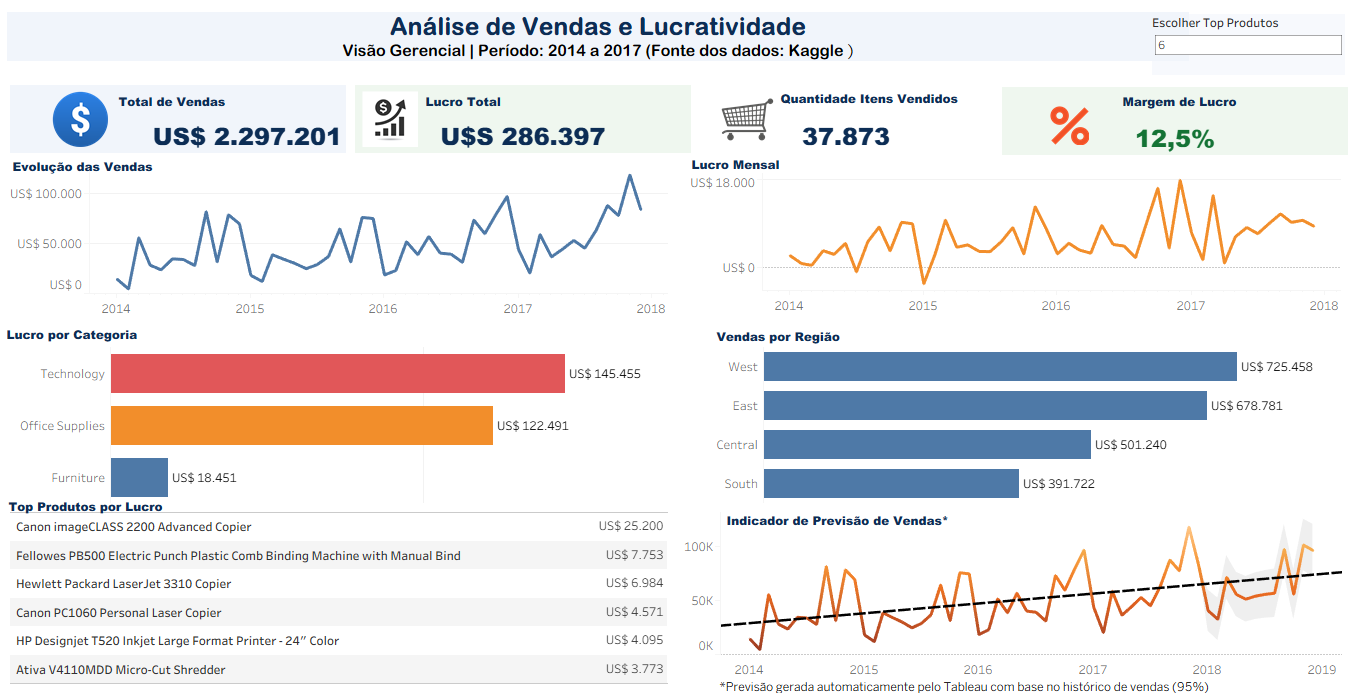

What the dashboard file says about the page in this screenshot:
{"tool":"tableau","page":{"name":"Dashboard","canvas":[1000,1000],"units":"permille","ordinal":0},"visuals":[{"type":"title","box":[7.1,14.5,844.4,103.3]},{"type":"parameter","param":"[Parameters].[Parâmetro 1]","box":[847,19.9,141.5,87]},{"type":"worksheet","title":"Total de Vendas","mark":"Automatic","box":[8.4,115.9,251.6,108.7]},{"type":"worksheet","title":"Lucro Total","mark":"Automatic","box":[260.9,115.9,251.6,108.7]},{"type":"worksheet","title":"Quantidade Vendida","mark":"Automatic","box":[513.5,115.9,219,108.7]},{"type":"text","box":[88.7,117.8,104.2,54.4]},{"type":"text","box":[313.1,117.8,104.4,54.4]},{"type":"text","box":[573.2,117.8,159.7,45.3]},{"type":"text","box":[823.9,117.8,145.4,54.4]},{"type":"worksheet","title":"Margem de Lucro","mark":"Automatic","box":[734.4,119.6,259.1,108.7]},{"type":"image","box":[35.3,130.4,55.1,79.7]},{"type":"image","box":[261.9,130.4,55,79.7]},{"type":"image","box":[523.8,130.4,55,79.7]},{"type":"image","box":[772.6,148.6,28.4,63.4]},{"type":"text","box":[507.9,208.3,145.4,54.4]},{"type":"text","box":[11.2,210.1,145.4,54.4]},{"type":"worksheet","title":"Evolução das vendas","mark":"Line","rows":["sales"],"cols":["order_date"],"box":[8.4,233.7,487.4,235.5]},{"type":"worksheet","title":"Lucro Mensal","mark":"Line","rows":["profit"],"cols":["order_date"],"box":[501.4,233.7,491.2,235.5]},{"type":"text","box":[6.5,451.1,145.4,54.4]},{"type":"text","box":[526.3,454.7,144.7,54.4]},{"type":"worksheet","title":"Lucro por Categoria","mark":"Bar","rows":["category"],"cols":["profit"],"box":[8.4,490.9,487.4,235.5]},{"type":"worksheet","title":"Vendas por Região","mark":"Automatic","rows":["region"],"cols":["sales"],"box":[500.5,490.9,487.4,235.5]},{"type":"text","box":[7.8,697.5,144.7,54.4]},{"type":"text","box":[534,717.4,214.5,54.4]},{"type":"worksheet","title":"TOP Produtos","mark":"Automatic","rows":["product_name"],"box":[8,728.3,488.1,257.2]},{"type":"worksheet","title":"Indicador de Previsão","mark":"Automatic","rows":["sales"],"cols":["order_date"],"box":[501.4,728.3,487.4,257.2]}]}

Visuals, with their boxes on the dashboard's canvas, which has no fixed pixel size, in thousandths of its width and height (x1, y1, x2, y2). These are canvas units, not pixel positions in the 1351x693 screenshot, which may show the page scaled, cropped or inside an application window:
title: bbox=(7, 14, 852, 118)
parameter: bbox=(847, 20, 988, 107)
"Total de Vendas" worksheet: bbox=(8, 116, 260, 225)
"Lucro Total" worksheet: bbox=(261, 116, 512, 225)
"Quantidade Vendida" worksheet: bbox=(514, 116, 732, 225)
text: bbox=(89, 118, 193, 172)
text: bbox=(313, 118, 418, 172)
text: bbox=(573, 118, 733, 163)
text: bbox=(824, 118, 969, 172)
"Margem de Lucro" worksheet: bbox=(734, 120, 994, 228)
image: bbox=(35, 130, 90, 210)
image: bbox=(262, 130, 317, 210)
image: bbox=(524, 130, 579, 210)
image: bbox=(773, 149, 801, 212)
text: bbox=(508, 208, 653, 263)
text: bbox=(11, 210, 157, 264)
"Evolução das vendas" worksheet (Line marks): bbox=(8, 234, 496, 469)
"Lucro Mensal" worksheet (Line marks): bbox=(501, 234, 993, 469)
text: bbox=(6, 451, 152, 506)
text: bbox=(526, 455, 671, 509)
"Lucro por Categoria" worksheet (Bar marks): bbox=(8, 491, 496, 726)
"Vendas por Região" worksheet: bbox=(500, 491, 988, 726)
text: bbox=(8, 698, 152, 752)
text: bbox=(534, 717, 748, 772)
"TOP Produtos" worksheet: bbox=(8, 728, 496, 986)
"Indicador de Previsão" worksheet: bbox=(501, 728, 989, 986)
